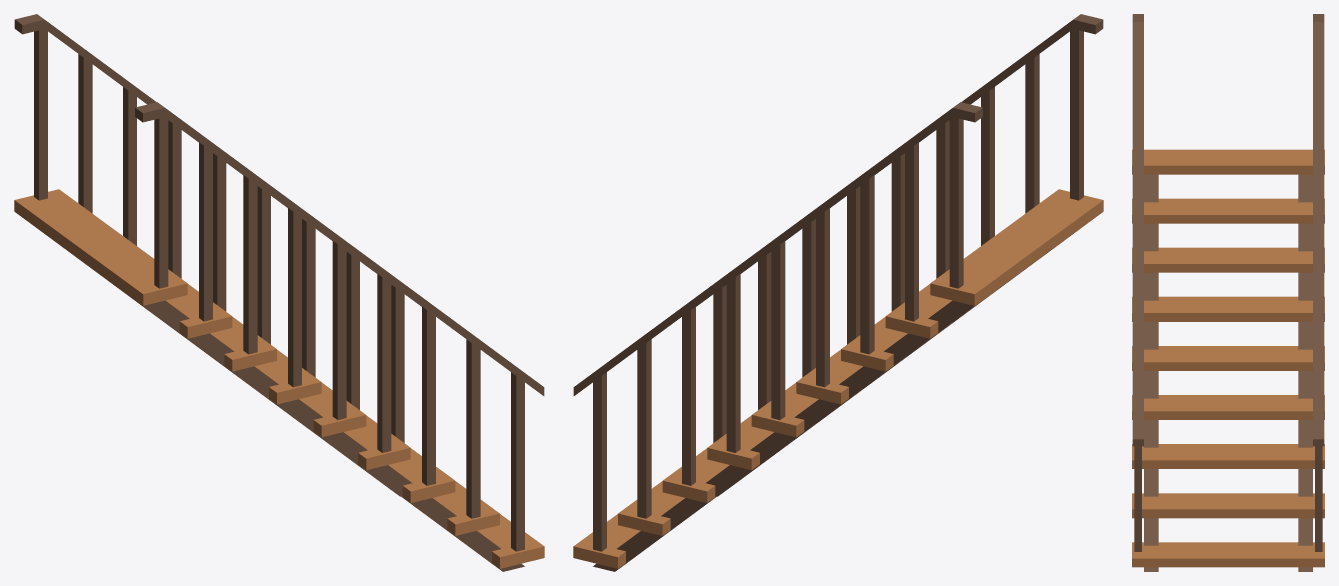
Rendered from SPW_Medieval_Props_Steps.glb.
3 renders of one model, left to right at view 1: azimuth 30°, elevation 25°; view 2: azimuth 150°, elevation 25°; view 3: azimuth 270°, elevation 25°, orthographic. The views are drawn at different scales.
Visible parts, largest first — view 1: SPW_Medieval_Props_Steps; view 2: SPW_Medieval_Props_Steps; view 3: SPW_Medieval_Props_Steps.
Part boxes in pixels (x1,y1,x2,y2): SPW_Medieval_Props_Steps: [14, 14, 544, 571]; SPW_Medieval_Props_Steps: [573, 14, 1103, 571]; SPW_Medieval_Props_Steps: [1132, 14, 1324, 571].
Size of the model in its own units: 1.8 by 2.37 by 1.
Materials: 1 (1 with a texture image).
